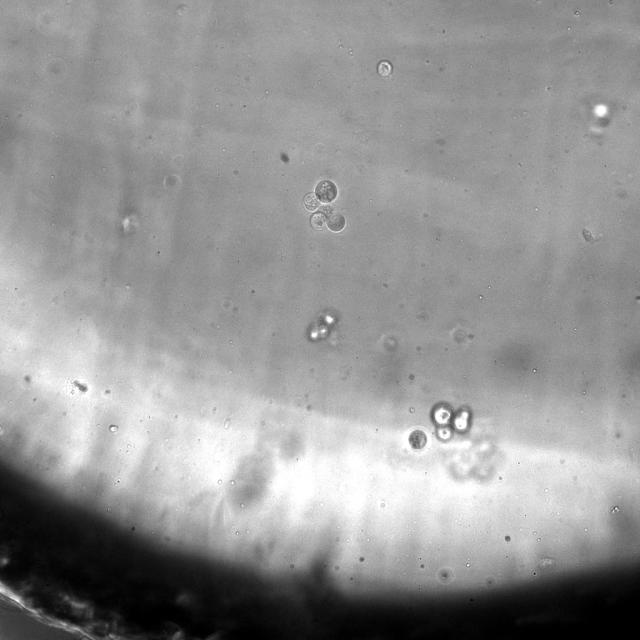organoid: (303, 179, 346, 233), (431, 401, 471, 441), (306, 309, 338, 343), (408, 428, 428, 450), (377, 59, 392, 77)
